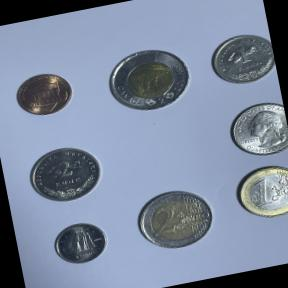1 Euro: (227, 158, 288, 226)
2 Euro: (128, 180, 222, 258)
Canda-10cent-: (43, 215, 115, 271)
Canda-2Dollar-: (97, 38, 202, 122)
Croatia-2Kune-: (20, 138, 110, 210)
US-1cent-: (9, 65, 80, 123)
US-25cent-: (219, 96, 288, 165)
